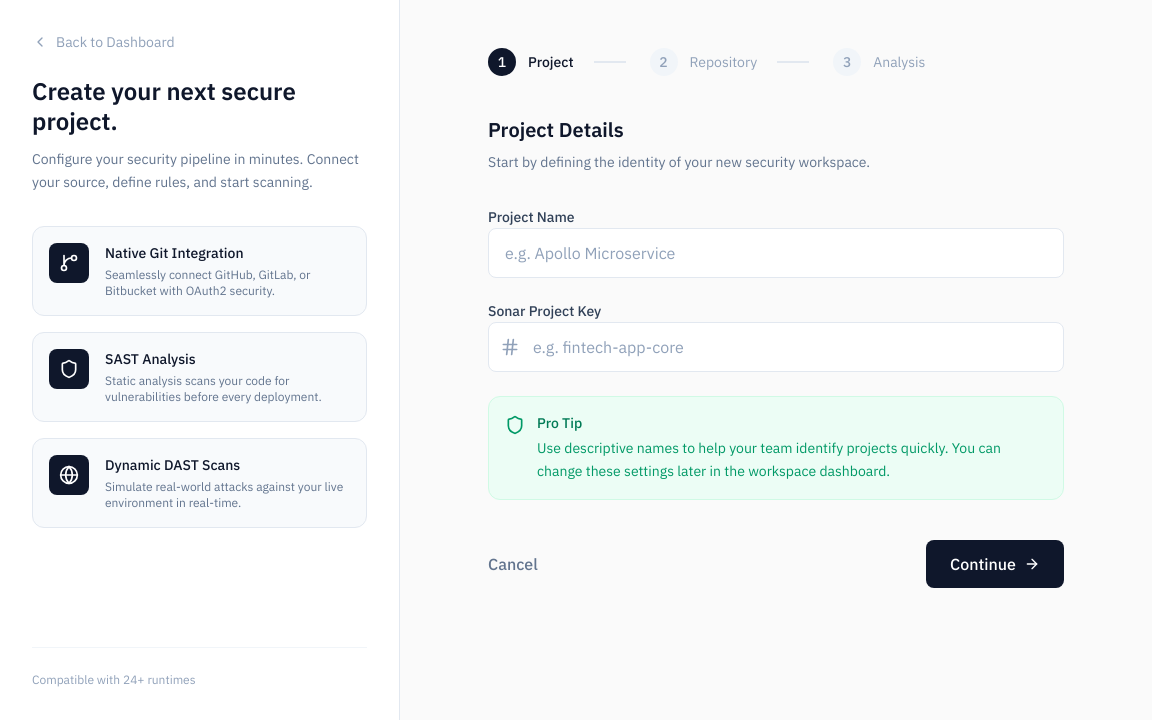
Test: CreateProjectPage git_url scheme validation › ssh:// git url is rejected at step 2 with a scheme-specific error
Type "My Project" into the field labelled "Project Name".
click(776, 253); type("My Project")  # box [488,228,1064,278]
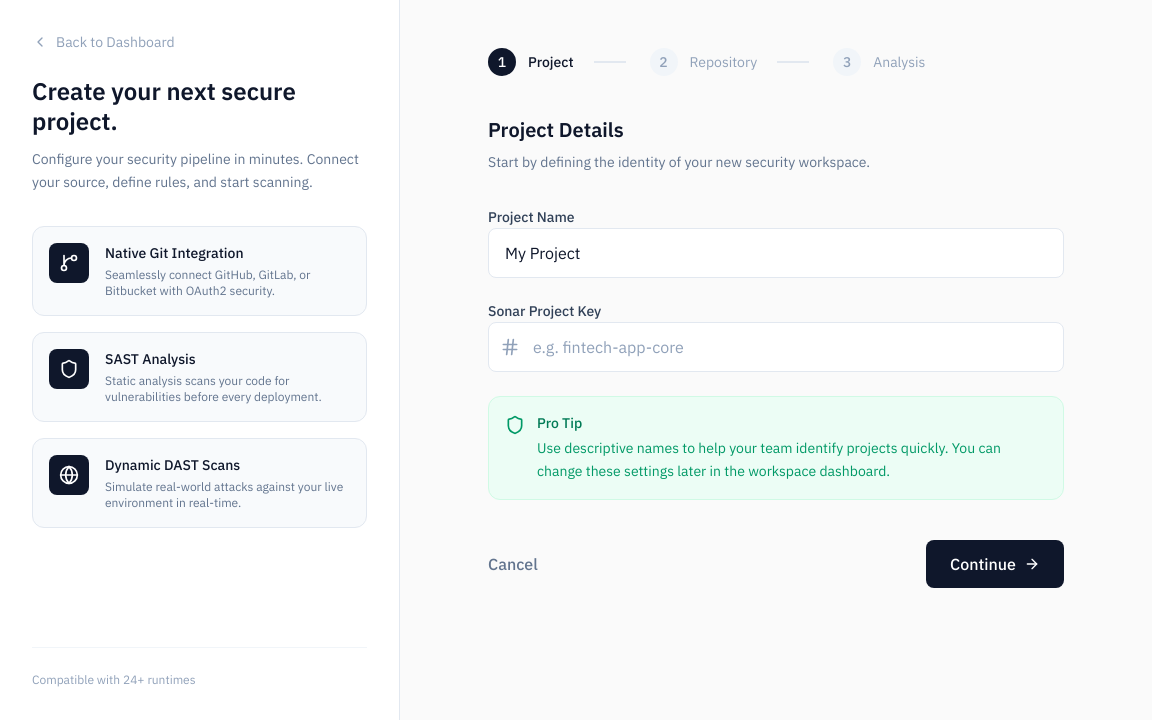
Type "my-sonar-key" into the field labelled "Sonar Project Key".
click(776, 347); type("my-sonar-key")  # box [488,322,1064,372]
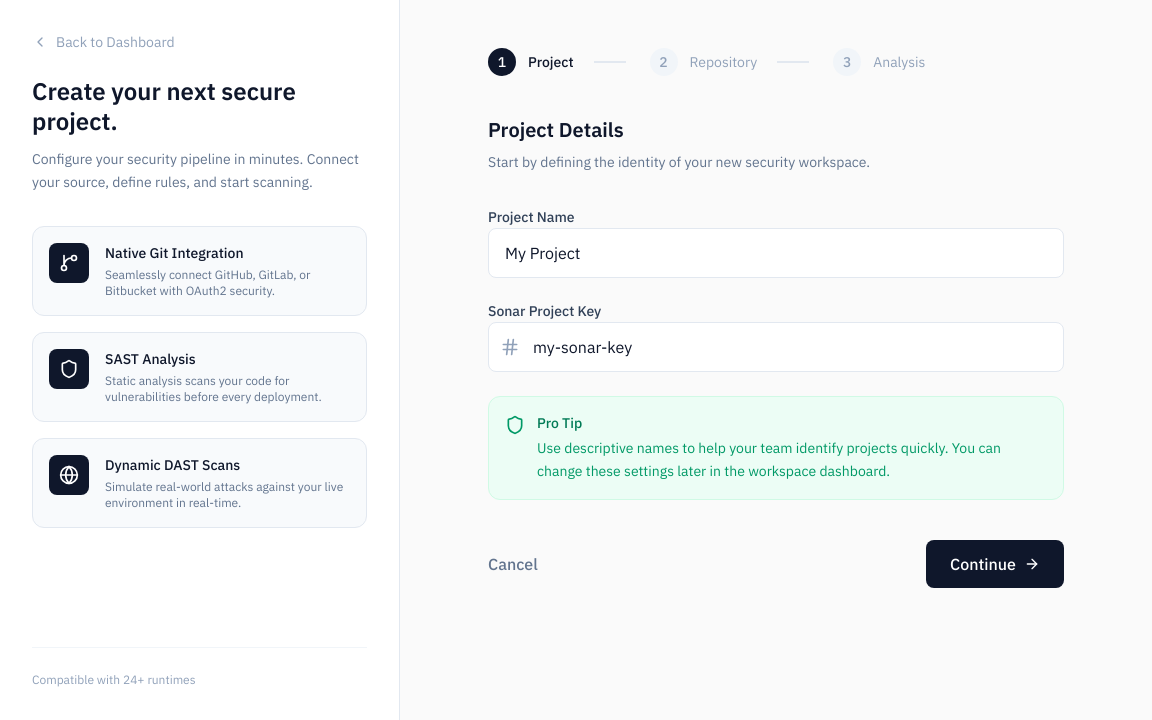
Click the button "Continue".
click(995, 564)  # box [926,540,1064,588]
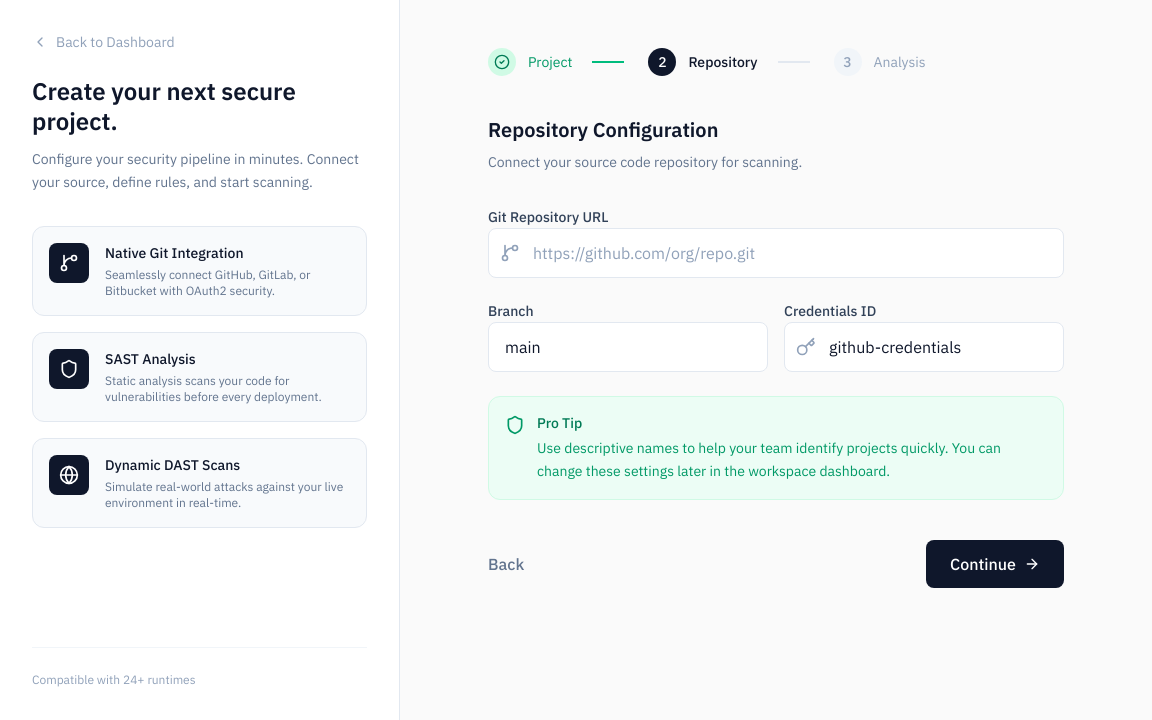
Check: the field labelled "Git Repository URL" is shown
Type "ssh://git@github.com/org/repo.git" into the field labelled "Git Repository URL".
click(776, 253); type("ssh://git@github.com/org/repo.git")  # box [488,228,1064,278]
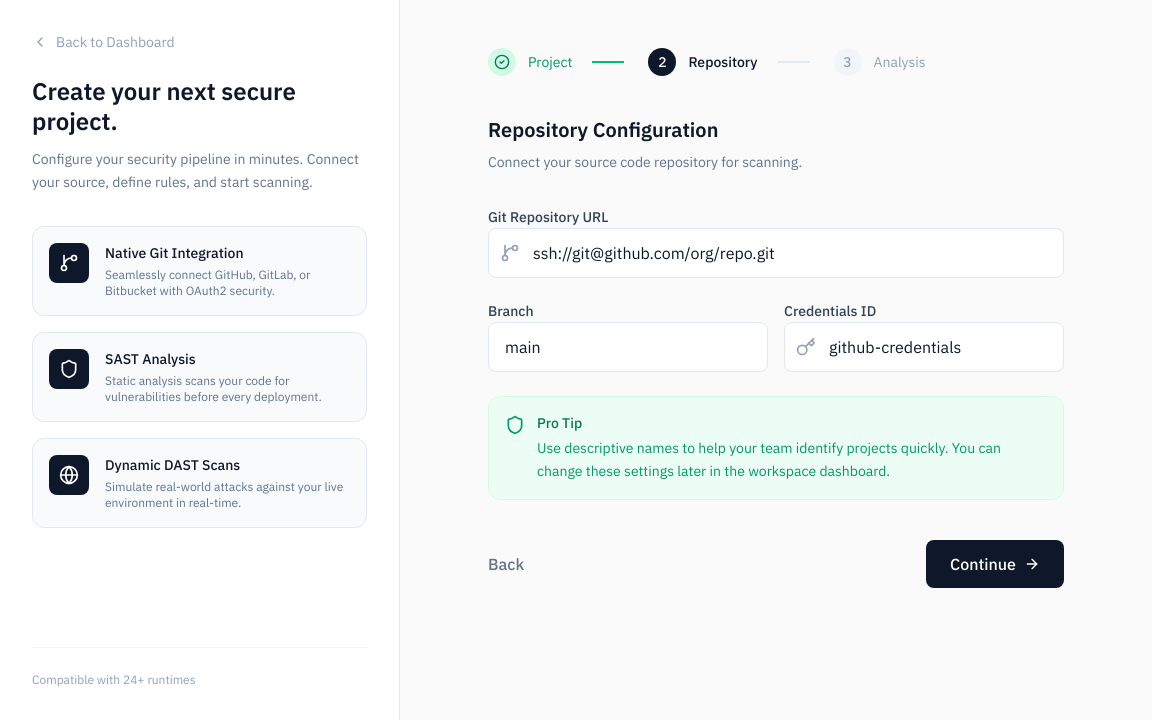
Click the button "Continue".
click(995, 564)  # box [926,540,1064,588]
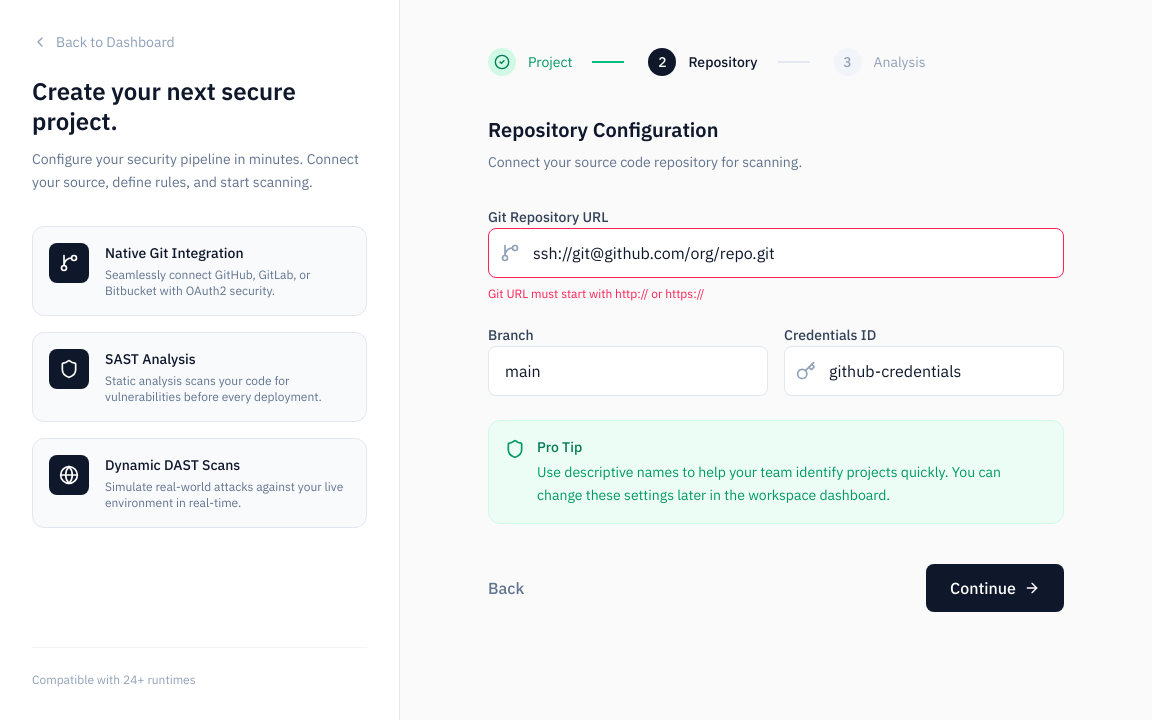
Check: the text "Git URL must start with http:// or https://" is shown, box [488,286,704,301]
